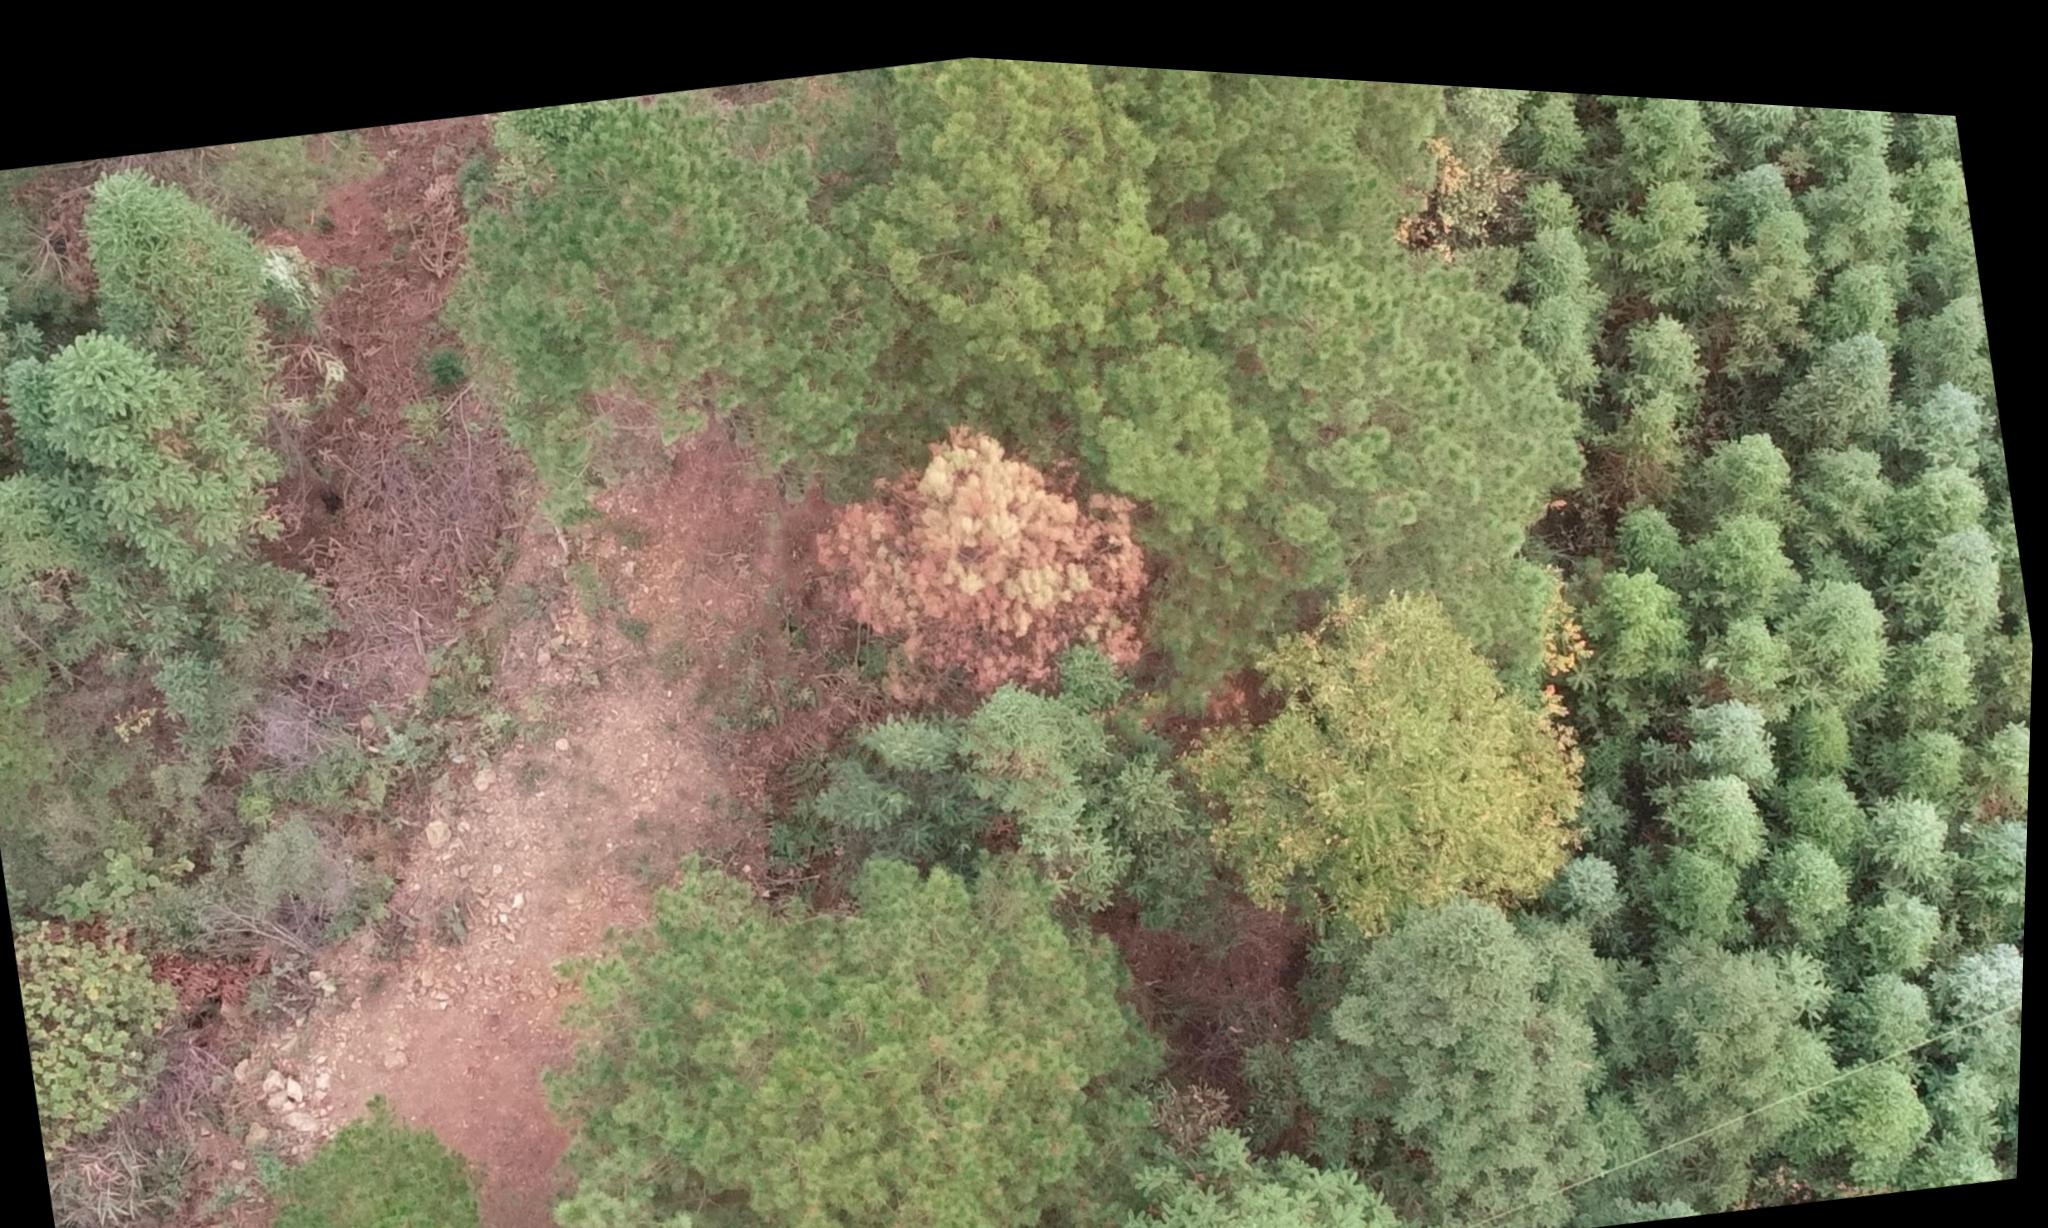heavy: (795, 368, 1190, 722)
